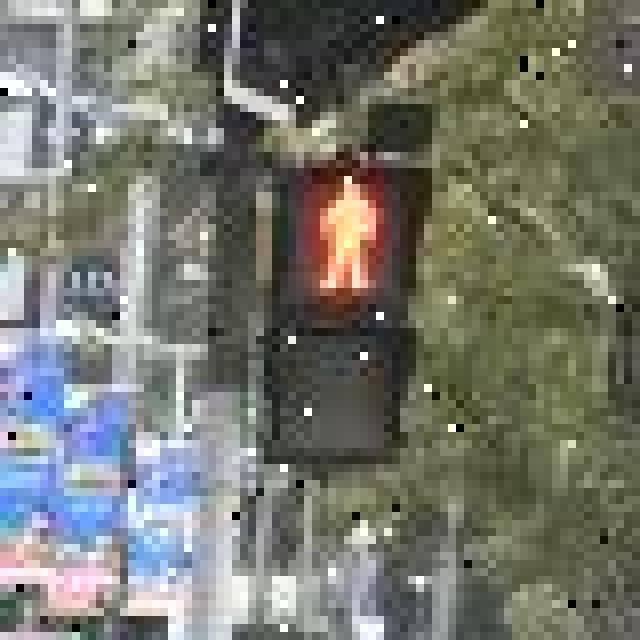redlight: (256, 144, 432, 464)
